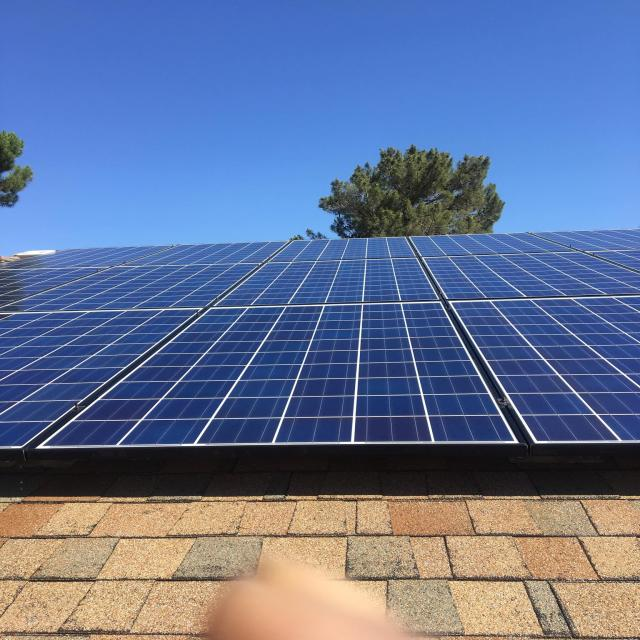clean-solar-panel: (453, 296, 638, 442)
